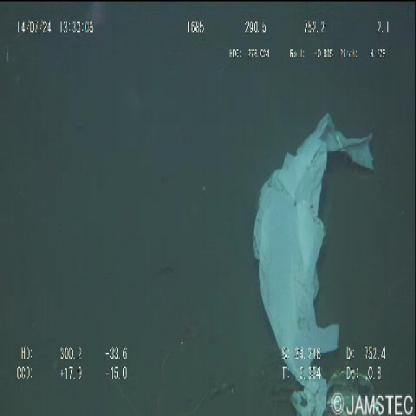Rác: (252, 113, 376, 415)
